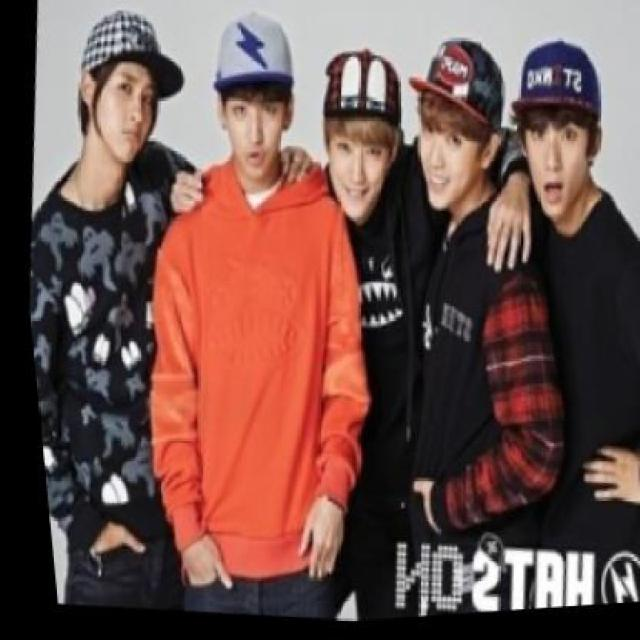hat: (73, 0, 192, 102), (394, 34, 512, 135), (500, 32, 608, 136), (312, 42, 408, 138), (202, 14, 298, 109)
